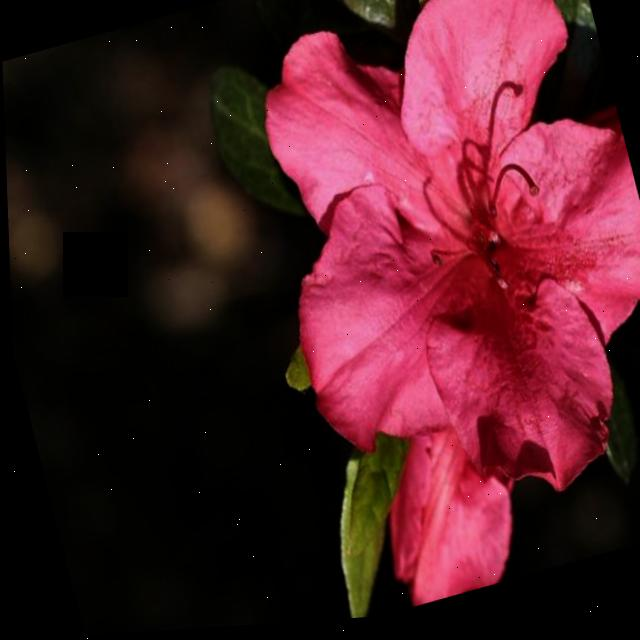azalea: (223, 0, 640, 512)
